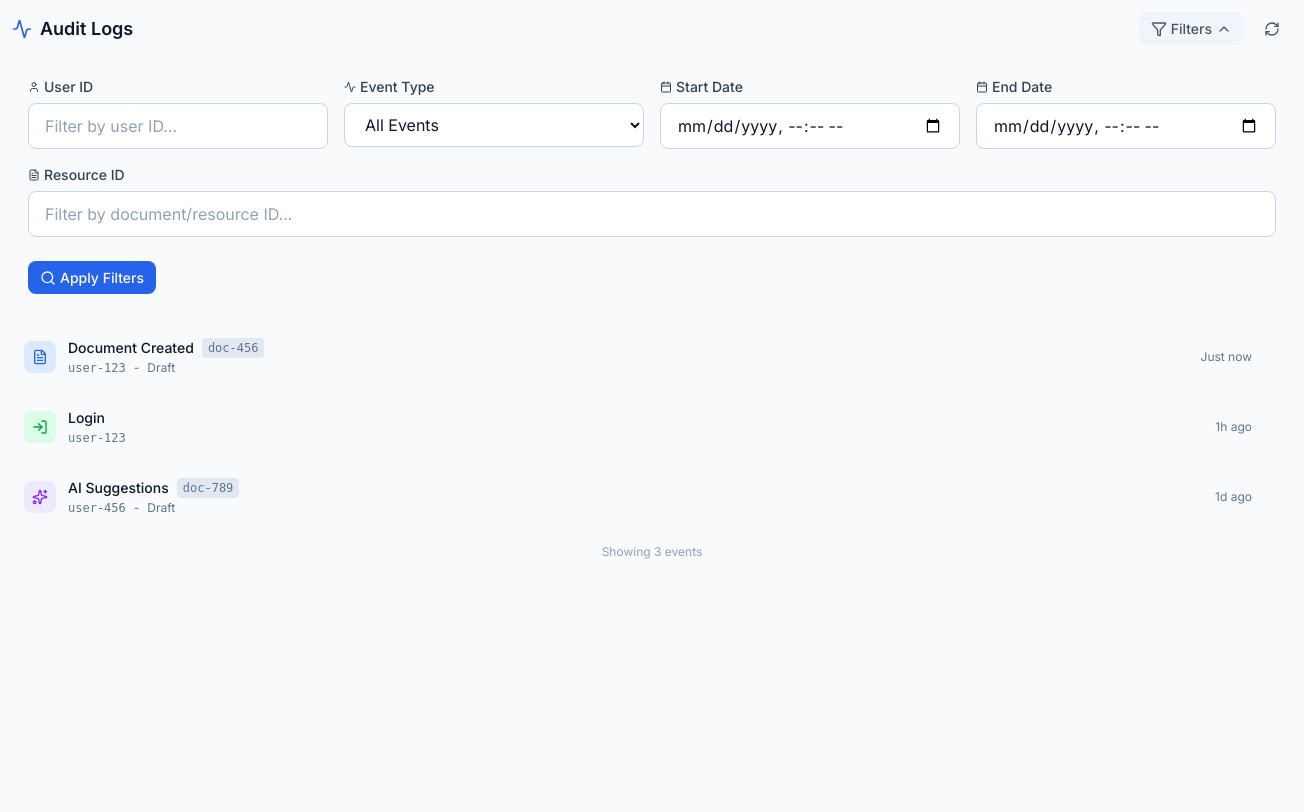
Scenario: AuditLogViewer › Filters › should toggle filter panel
Expected: the button "Apply Filters" is shown, [28,261,156,294]
Click the button "Filters" at (1191, 28), box [1139,12,1244,45]
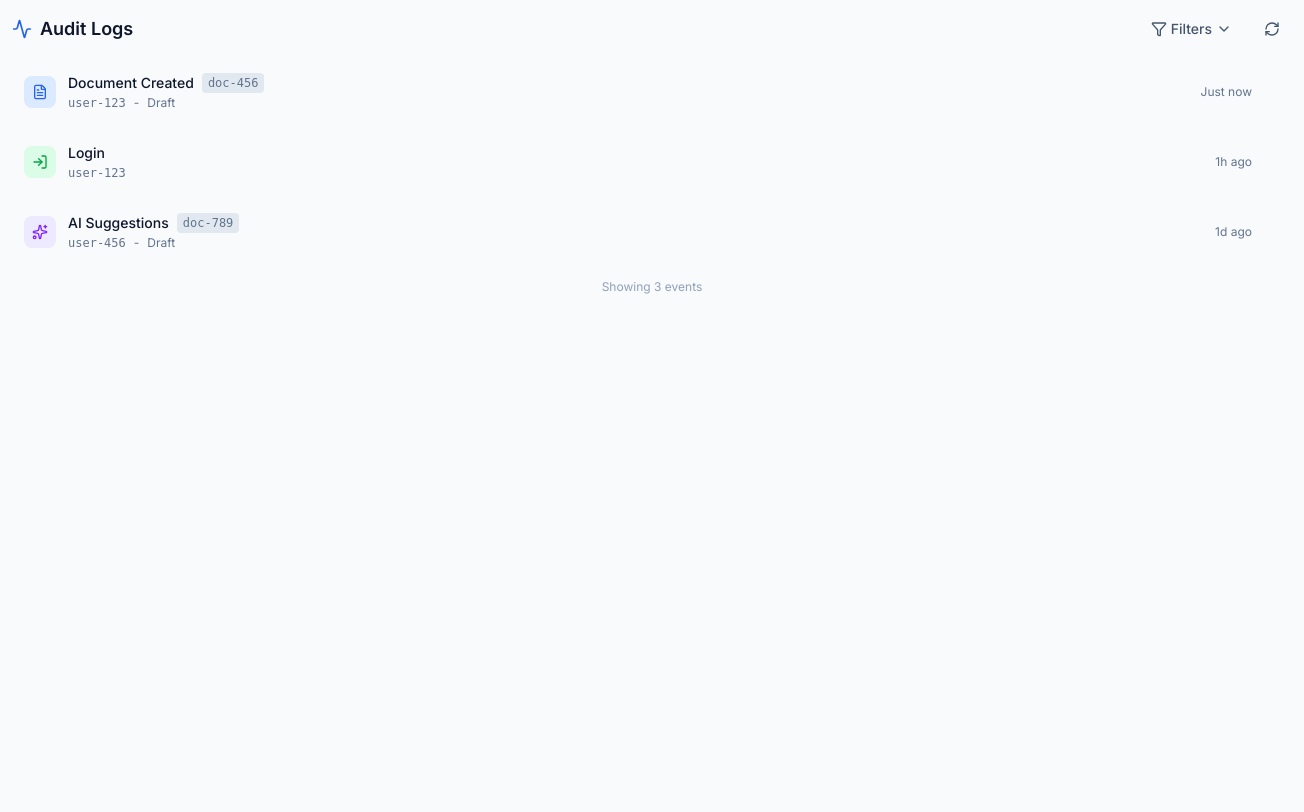
Expected: the button "Apply Filters" is gone
